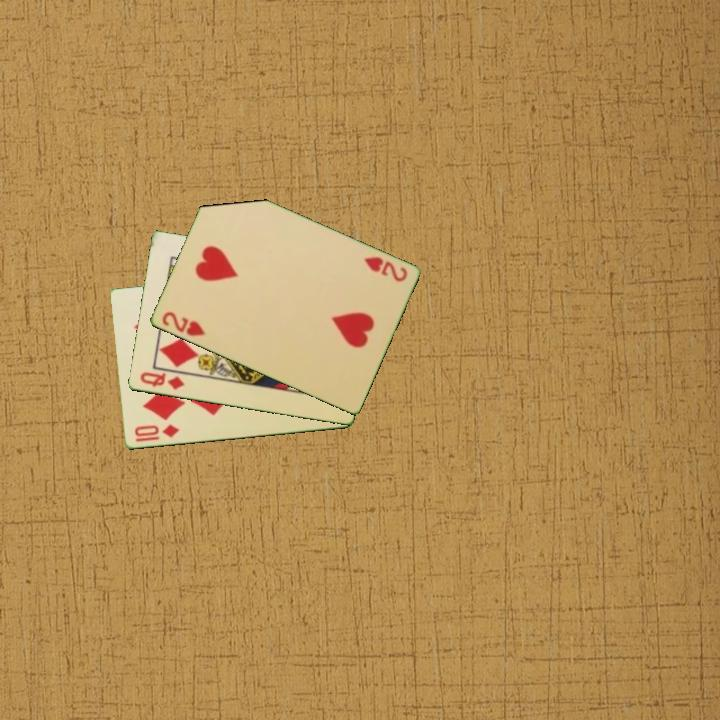10d: (131, 421, 181, 441)
2h: (359, 253, 410, 285), (158, 308, 208, 339)
Qd: (136, 369, 187, 393)
